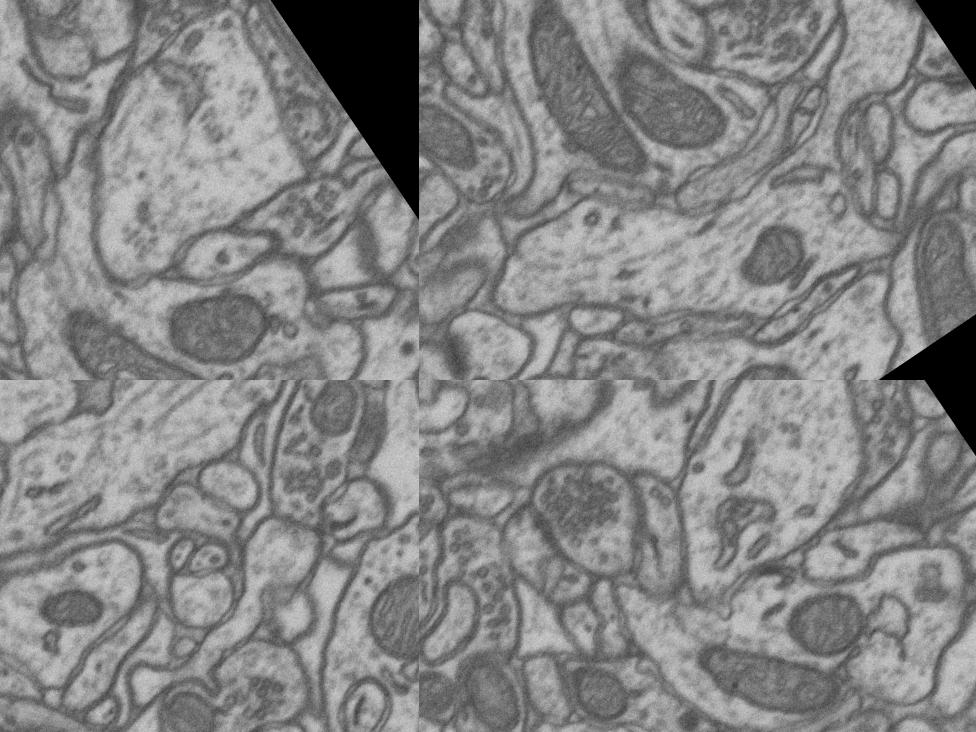mitochondria: (485, 0, 671, 199), (590, 18, 743, 183), (682, 589, 848, 732), (42, 261, 218, 380), (145, 253, 289, 380), (767, 563, 888, 682), (874, 203, 976, 343), (235, 0, 348, 123), (338, 542, 419, 686), (15, 560, 118, 658), (720, 210, 818, 304), (549, 641, 646, 732), (445, 644, 542, 732), (281, 380, 387, 458), (419, 81, 491, 191), (145, 668, 241, 732), (687, 341, 822, 380), (419, 665, 459, 722), (154, 0, 239, 23), (897, 380, 945, 417)
